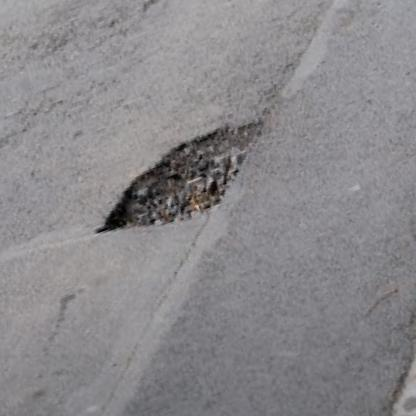pothole: (74, 109, 289, 250)
